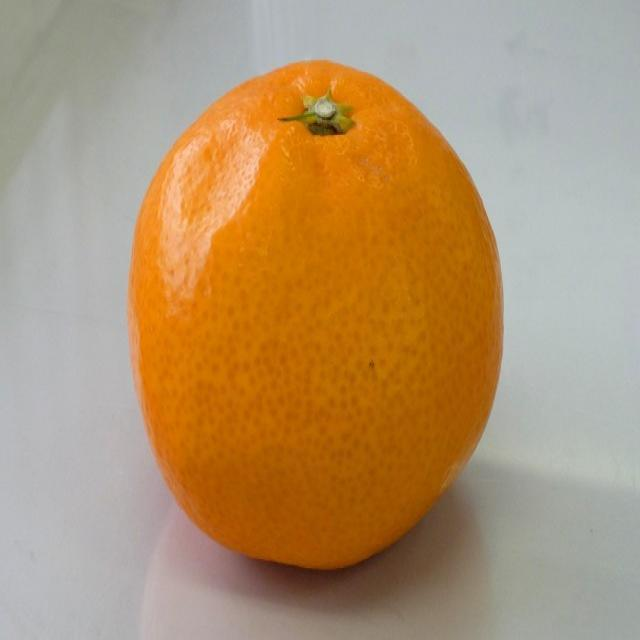Orange: (130, 58, 504, 572)
